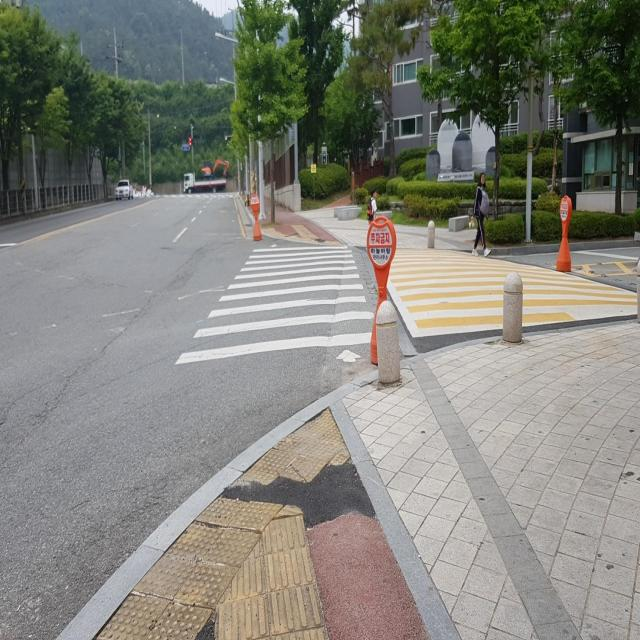횡단보도: (173, 241, 376, 368)
